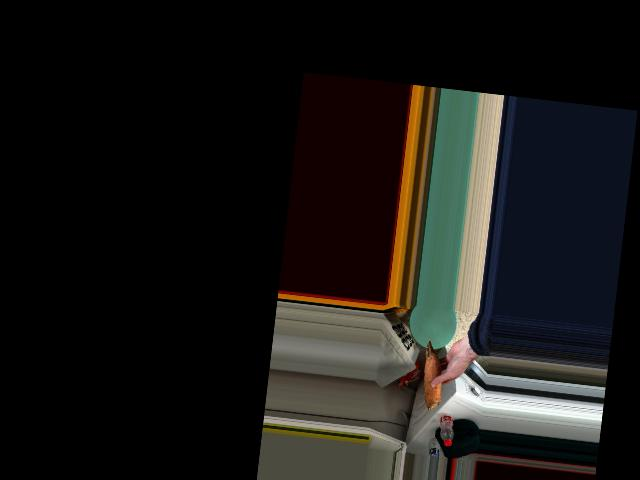sweet_potato: (420, 338, 446, 406)
